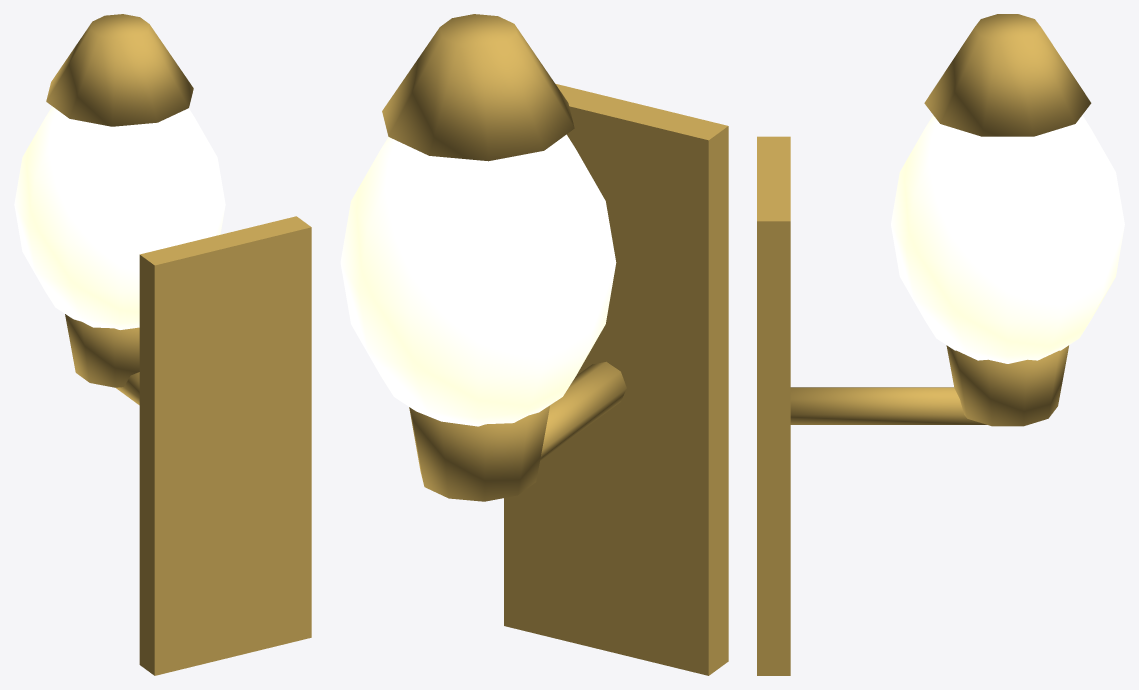
Rendered from SM_ENV_ArandelaGas.fbx.
The picture shows the model from 3 angles, left to right: view 1: azimuth 30°, elevation 25°; view 2: azimuth 150°, elevation 25°; view 3: azimuth 270°, elevation 25°; orthographic projection. The views are drawn at different scales.
Visible parts, largest first — view 1: SM_ENV_ArandelaGas; view 2: SM_ENV_ArandelaGas; view 3: SM_ENV_ArandelaGas.
Part boxes in pixels (x1,y1,x2,y2): SM_ENV_ArandelaGas: [14, 14, 311, 675]; SM_ENV_ArandelaGas: [340, 14, 728, 675]; SM_ENV_ArandelaGas: [757, 14, 1124, 675].
Size of the model in its own units: 0.14 by 0.4 by 0.22.
